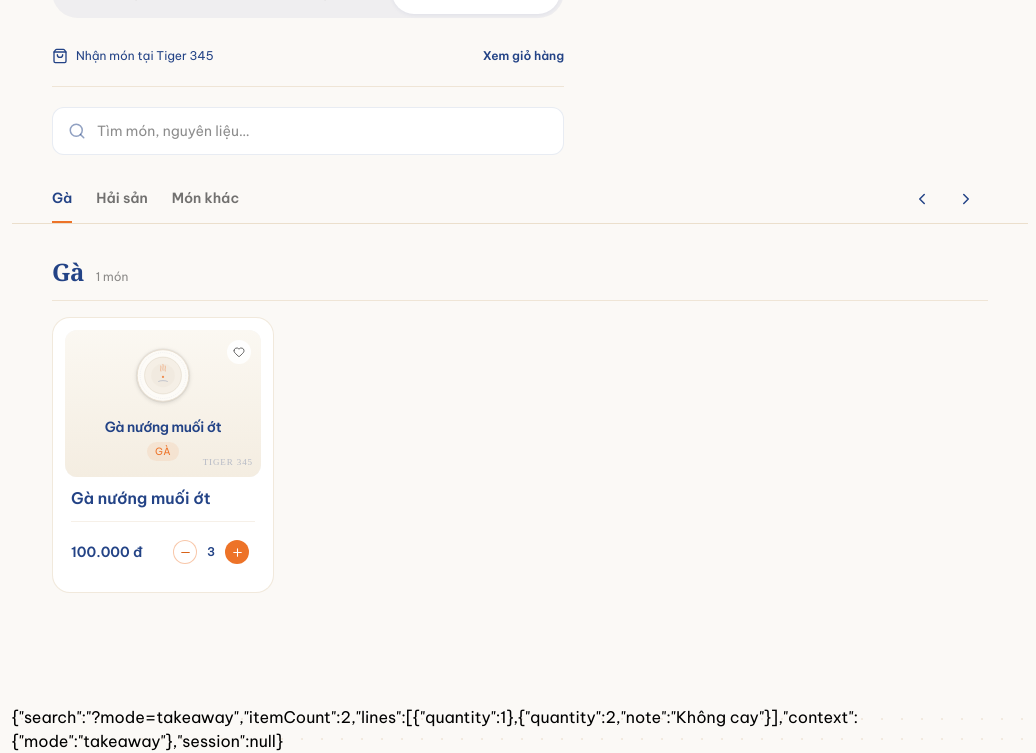
Test: MenuPage category navigation › counts noted portions and decrements without losing the remaining notes
(page scrolled)
Expected: the text named "Số lượng Gà nướng muối ớt" reads "3", top-left (207, 544), bottom-right (215, 559)
Click the button named "Giảm số lượng Gà nướng muối ớt" at (185, 552), box top-left (167, 530), bottom-right (203, 574)
(page scrolled)
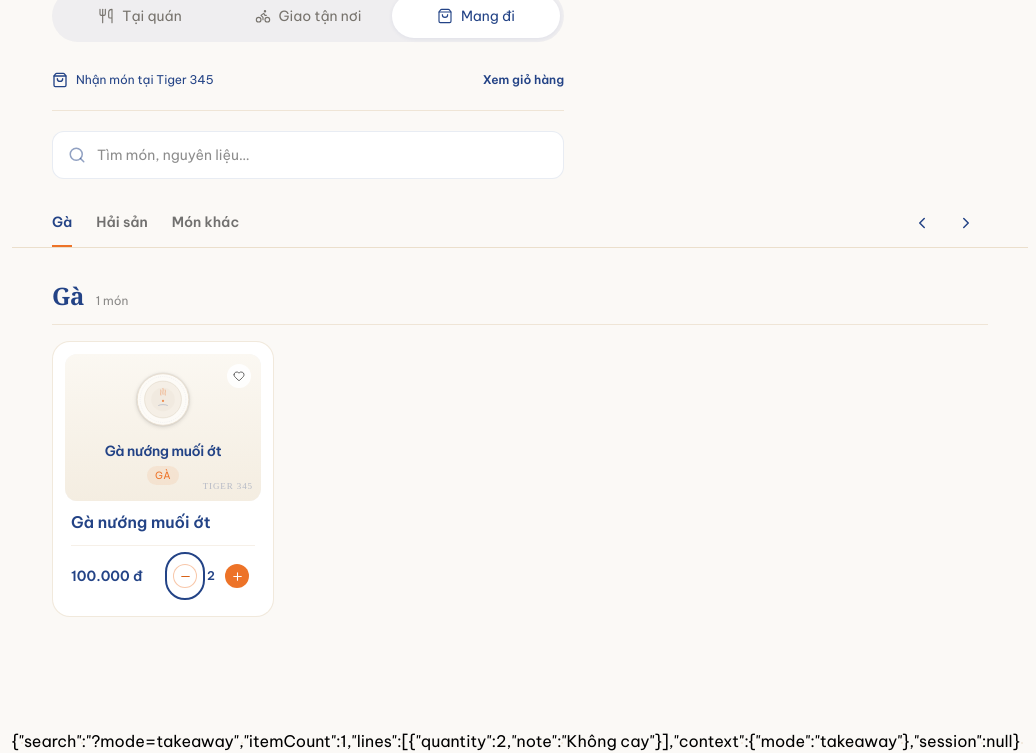
Click the button named "Giảm số lượng Gà nướng muối ớt" at (185, 576), box top-left (167, 554), bottom-right (203, 598)
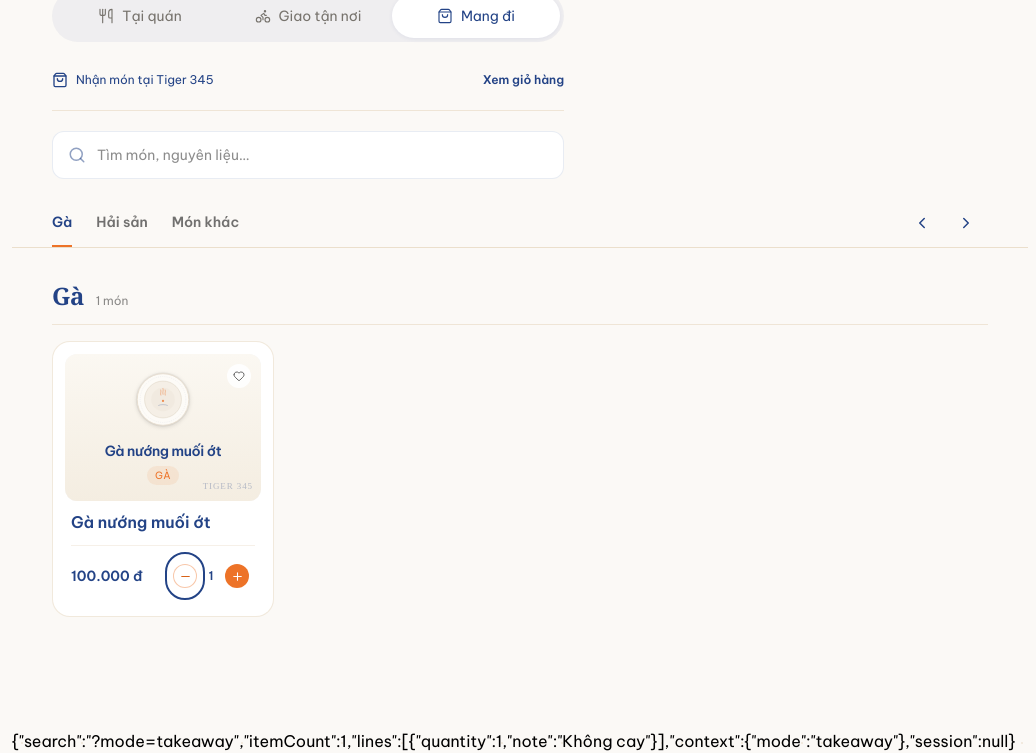
Click the button named "Tăng số lượng Gà nướng muối ớt" at (237, 576), box top-left (219, 554), bottom-right (255, 598)
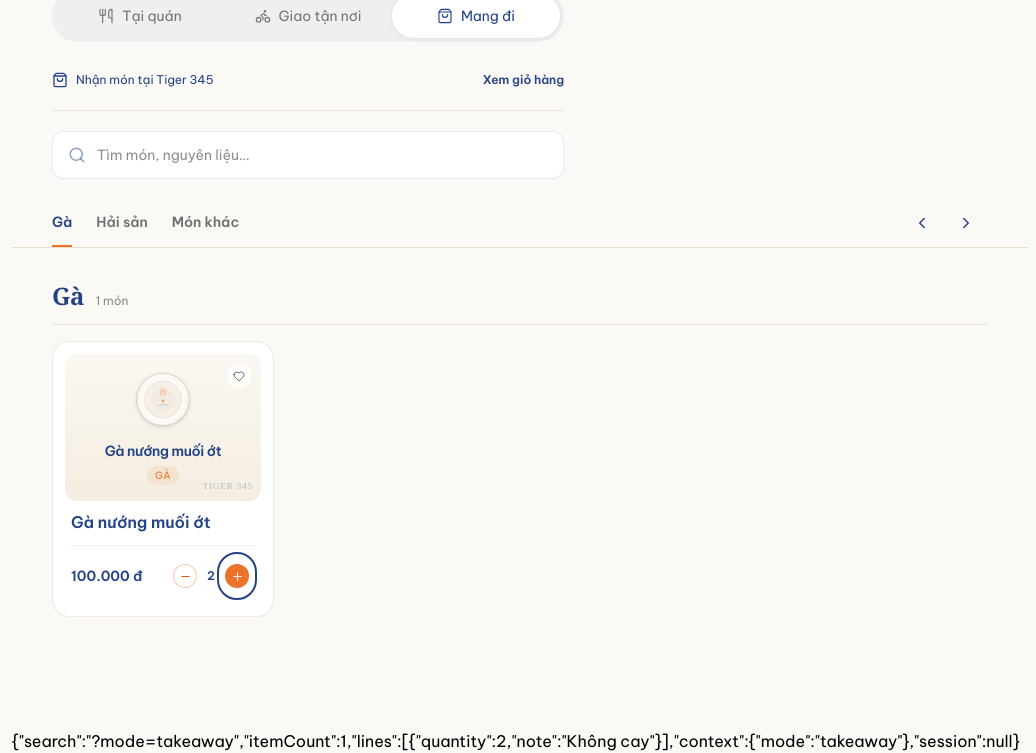
Expected: the text named "Số lượng Gà nướng muối ớt" reads "2", top-left (207, 568), bottom-right (215, 583)
